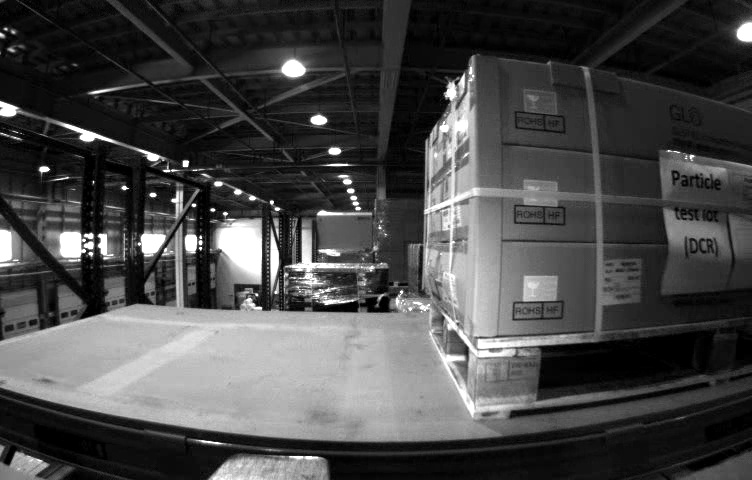True Barcode: (600, 264, 639, 301)
